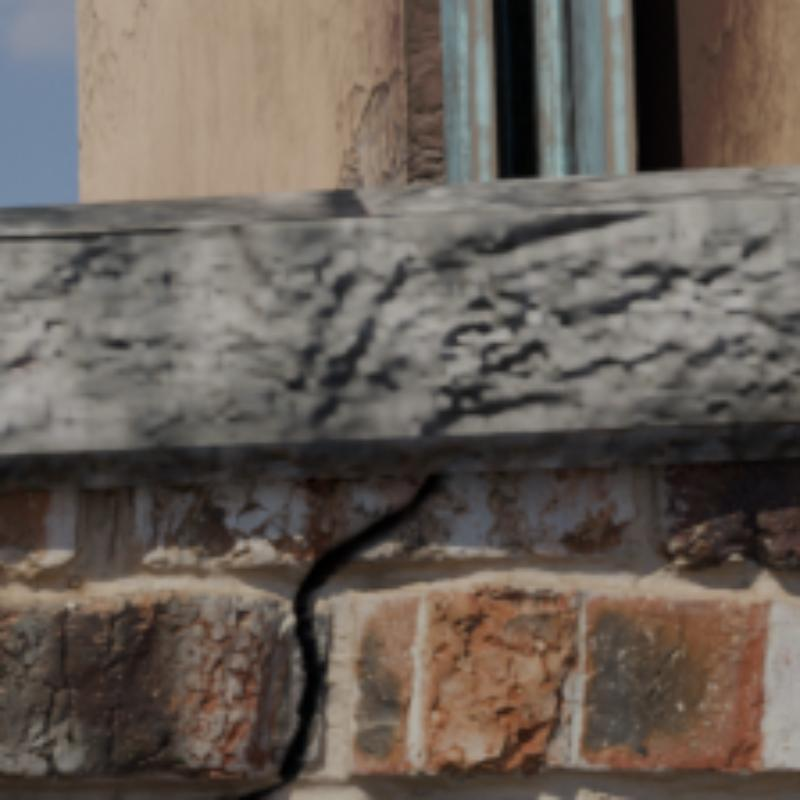pothole: (182, 471, 454, 796)
